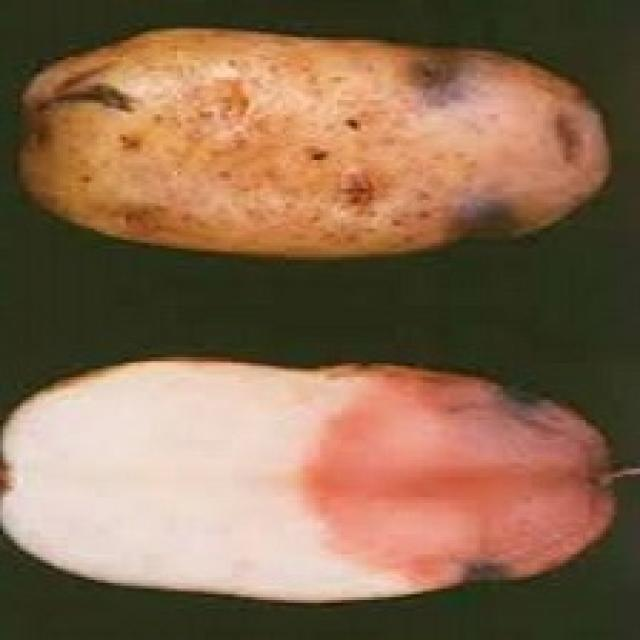pink_rot: (0, 324, 616, 640)
